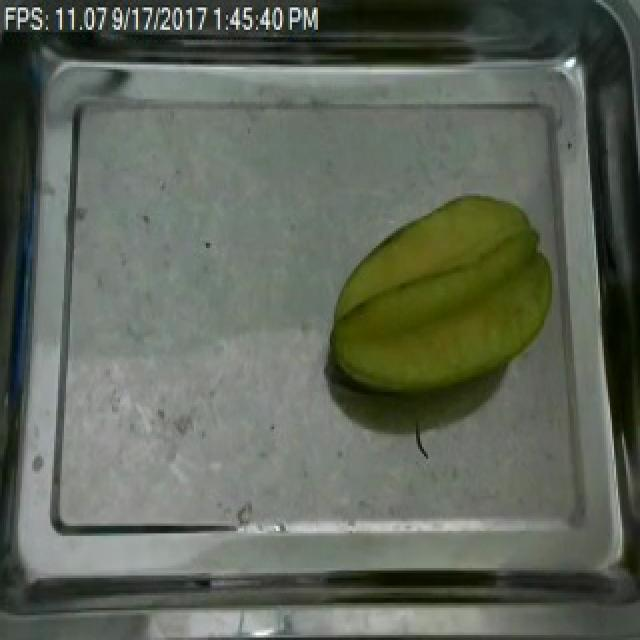fruit: (318, 181, 566, 409)
